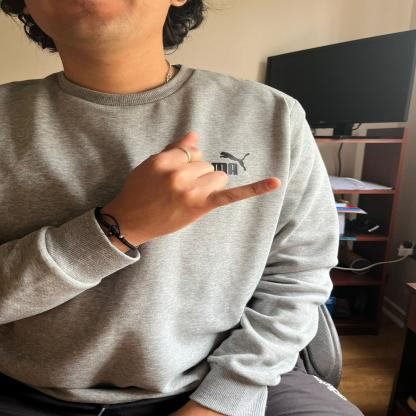J: (108, 124, 284, 236)
